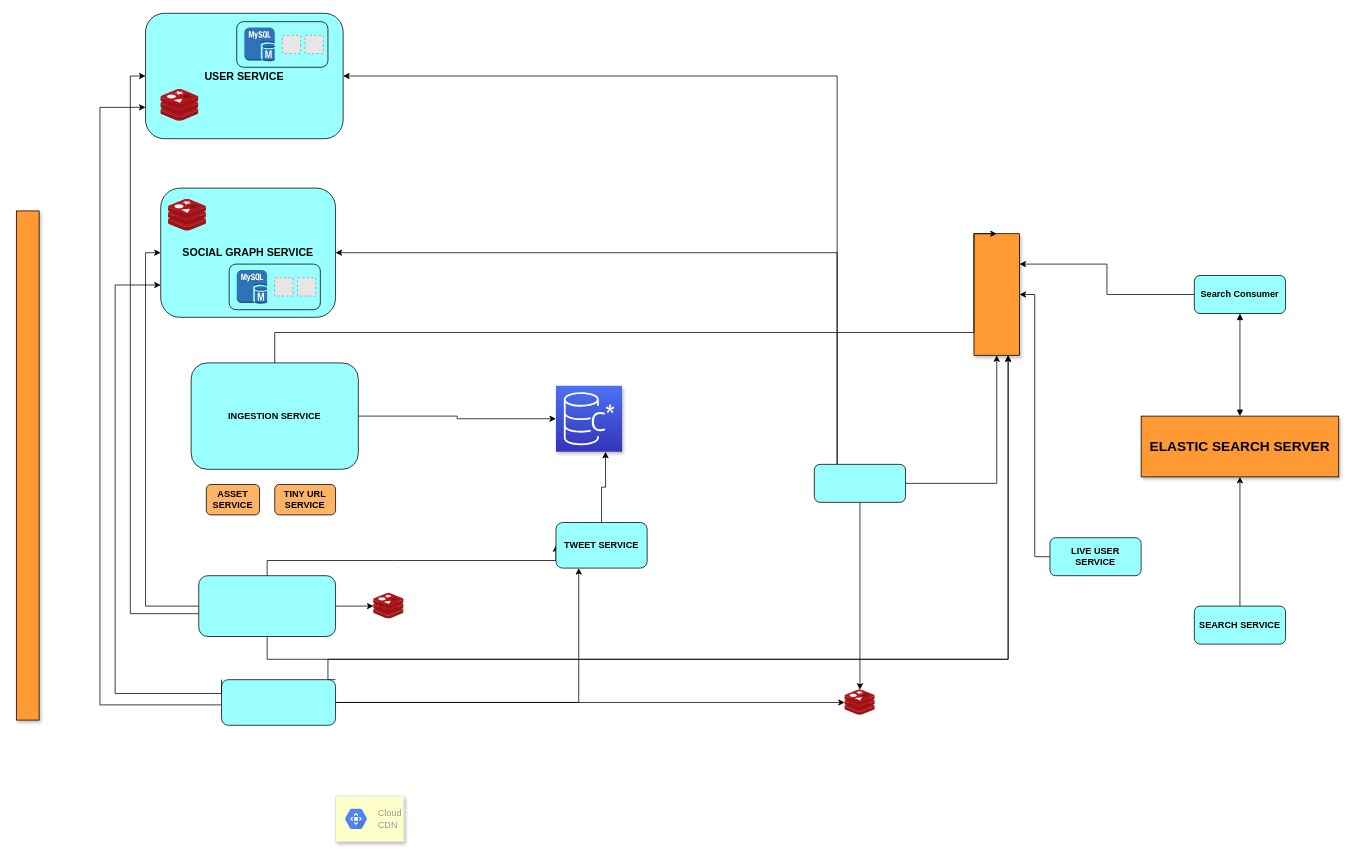
Some shapes in this 1357 by 860 pixel diagram are drawn without their labels. Grey dashed boxes stand in for pictures. Here are the shapes that lost their labels. From the top down, the centre of each, then its label:
pixel 997 295: K A F K A
pixel 28 466: L B
pixel 860 483: FANOUT SERVICE
pixel 267 605: USER TIMELINE SERVICE
pixel 278 702: HOME TIMELINE SERVICE
